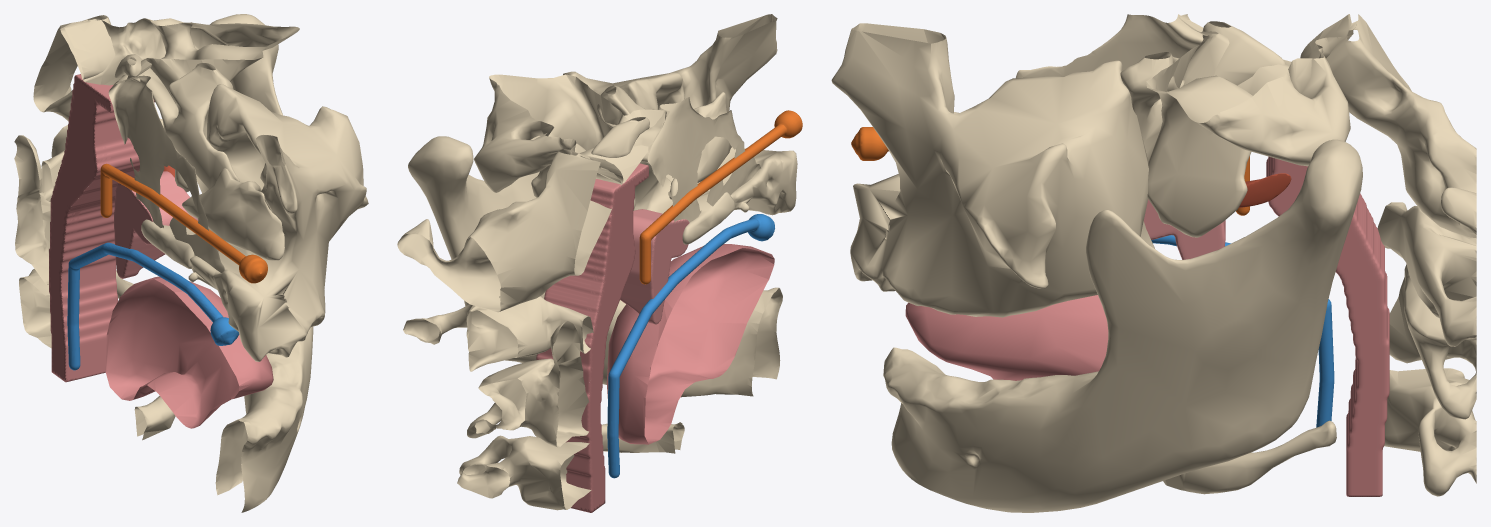
The model's file is vpi-cut.glb.
3 renders of one model, left to right at view 1: azimuth 30°, elevation 25°; view 2: azimuth 150°, elevation 25°; view 3: azimuth 270°, elevation 25°, orthographic. The views are drawn at different scales.
Parts seen in each view (by area): view 1: bone (×11), mucosa, tongue, air, soft, leak; view 2: bone (×11), tongue, mucosa, air, soft, leak; view 3: bone (×10), mucosa, tongue, air, soft, leak, muscle.
Part boxes in pixels (x1,y1,x2,y2): bone (×11): (14, 14, 368, 512); mucosa: (49, 74, 154, 382); tongue: (105, 276, 273, 428); air: (67, 242, 239, 370); soft: (114, 171, 198, 278); leak: (100, 163, 267, 283); bone (×11): (397, 14, 797, 510); tongue: (606, 244, 774, 444); mucosa: (536, 163, 648, 512); air: (607, 214, 774, 478); soft: (620, 209, 689, 324); leak: (639, 110, 802, 284); bone (×10): (831, 14, 1476, 512); mucosa: (1266, 156, 1389, 496); tongue: (905, 295, 1108, 380); air: (1151, 235, 1334, 427); soft: (1143, 199, 1225, 259); leak: (851, 127, 1249, 215); muscle: (1238, 173, 1291, 208).
Bounding box in the file's own units: 55.62 × 87 × 113.
